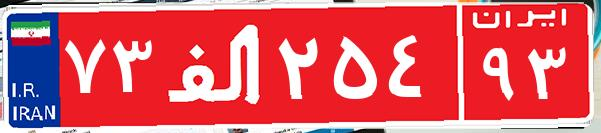2: (273, 28, 330, 110)
3: (110, 28, 158, 105), (525, 38, 570, 115)
4: (385, 28, 445, 110)
5: (330, 28, 385, 110)
7: (57, 26, 110, 107)
9: (475, 38, 525, 113)
الف: (158, 15, 273, 115)
